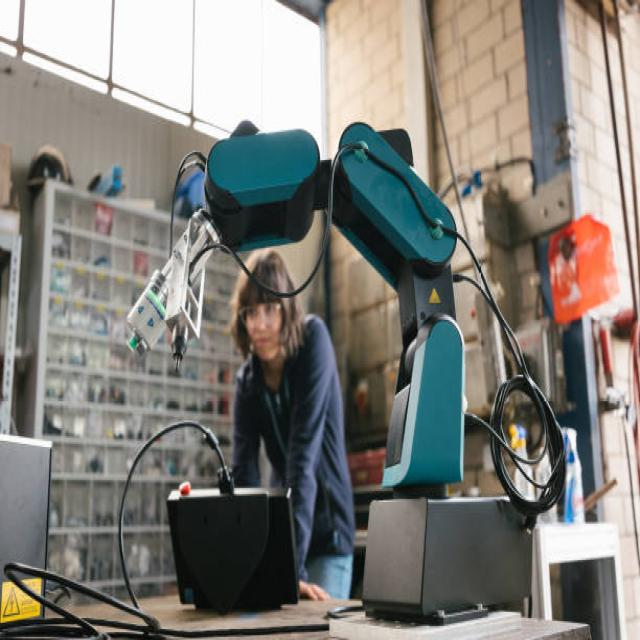Robotic-arm: (174, 112, 473, 496)
